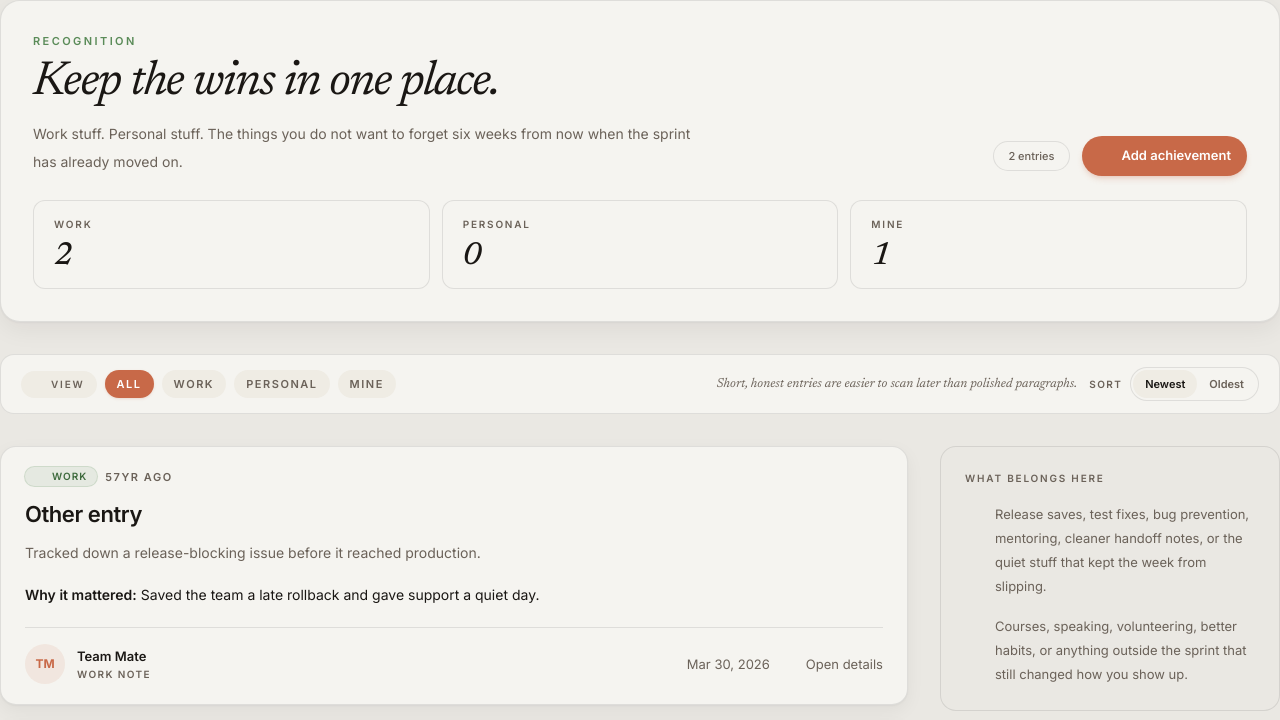
Test: AchievementsScreen › filters to only the signed-in user entries when Mine is selected
Click the button "Mine" at (367, 384), box x1=338 y1=370 x2=396 y2=398
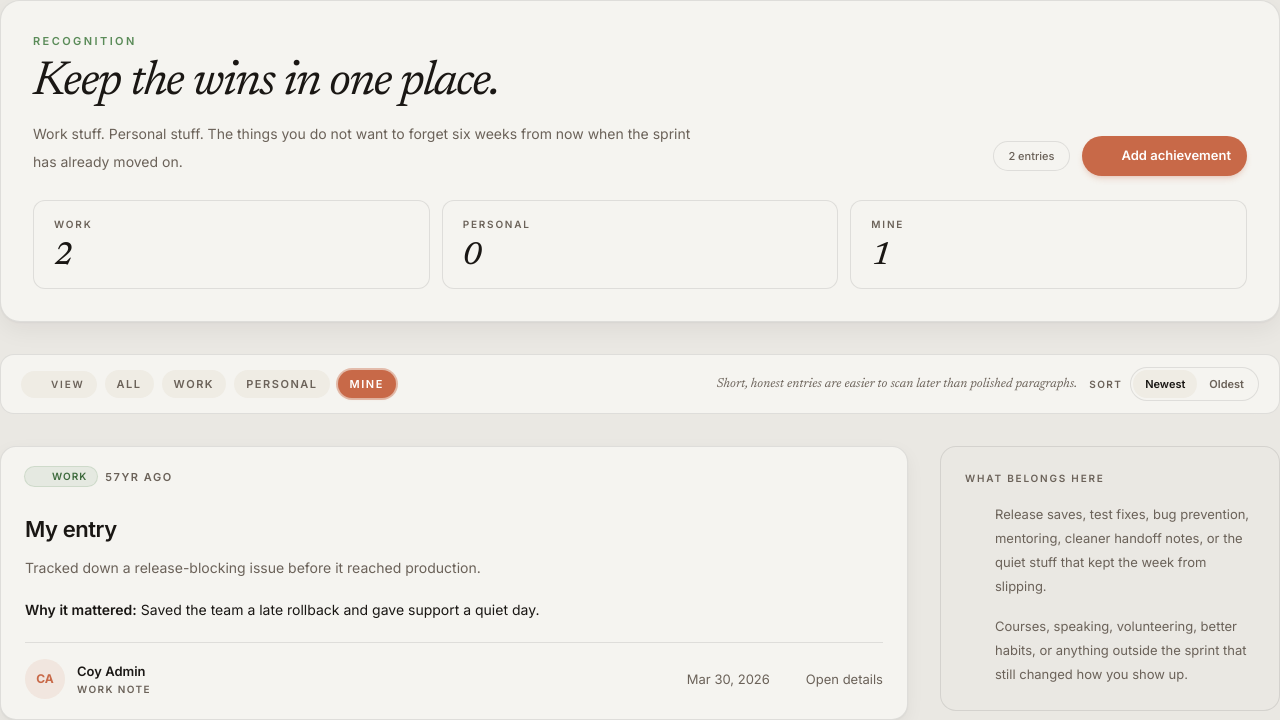
Expected: the heading "My entry" is shown, x1=25 y1=516 x2=117 y2=542
Expected: the button "Other entry" is gone
